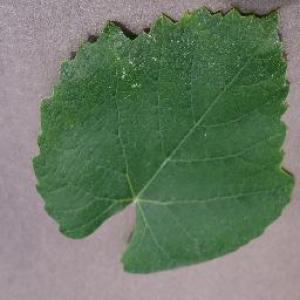Folha: (31, 5, 294, 274)
